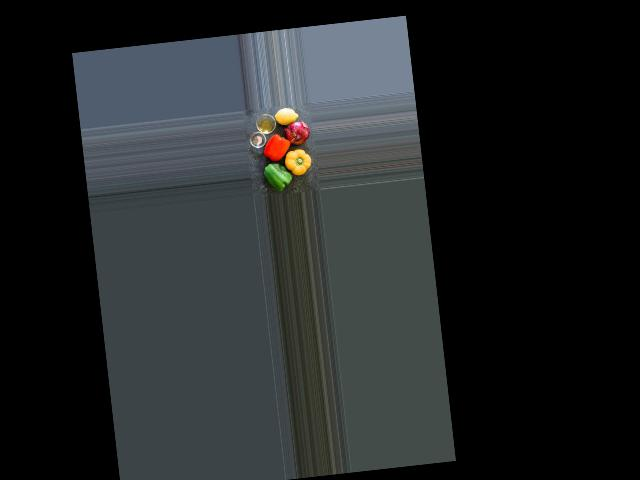bell_pepper: (261, 133, 292, 162)
